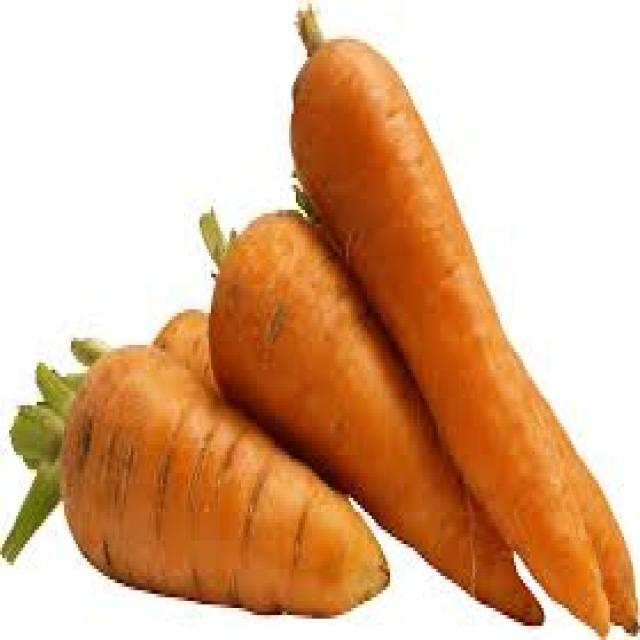organic waste: (287, 0, 608, 636), (197, 202, 544, 626), (0, 341, 388, 619), (507, 342, 638, 636), (69, 306, 218, 391)
